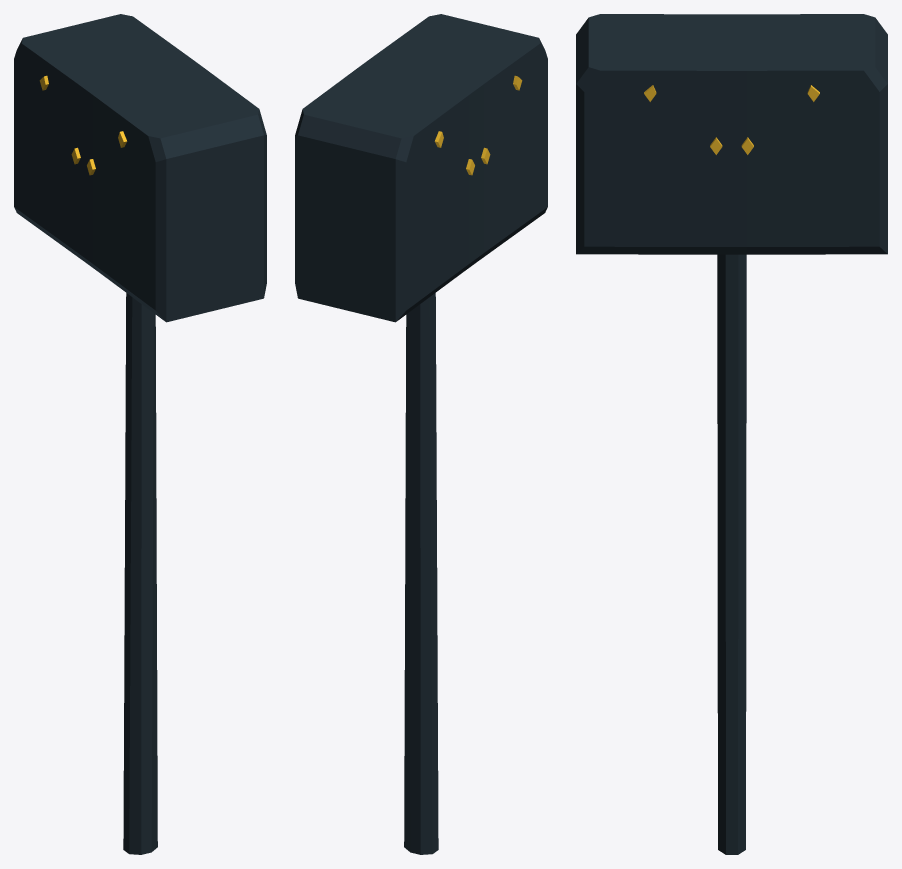
Rendered from BaneHammer.fbx.
3 renders of one model, left to right at view 1: azimuth 30°, elevation 25°; view 2: azimuth 150°, elevation 25°; view 3: azimuth 270°, elevation 25°, orthographic. The views are drawn at different scales.
Visible parts, largest first — view 1: Banehammer; view 2: Banehammer; view 3: Banehammer.
Boxes of the visible parts, x1,y1,x2,y2 form: Banehammer: [14, 14, 266, 854]; Banehammer: [295, 14, 547, 854]; Banehammer: [576, 14, 887, 854].
Bounding box in the file's own units: 77.78 × 485 × 170.
